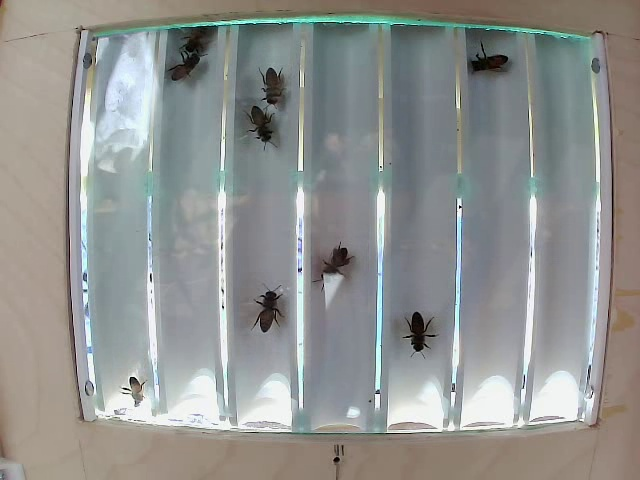bee: (310, 236, 354, 292), (241, 85, 275, 149), (257, 61, 296, 109), (466, 42, 508, 85), (397, 307, 435, 349), (170, 52, 207, 94), (254, 280, 280, 321)
